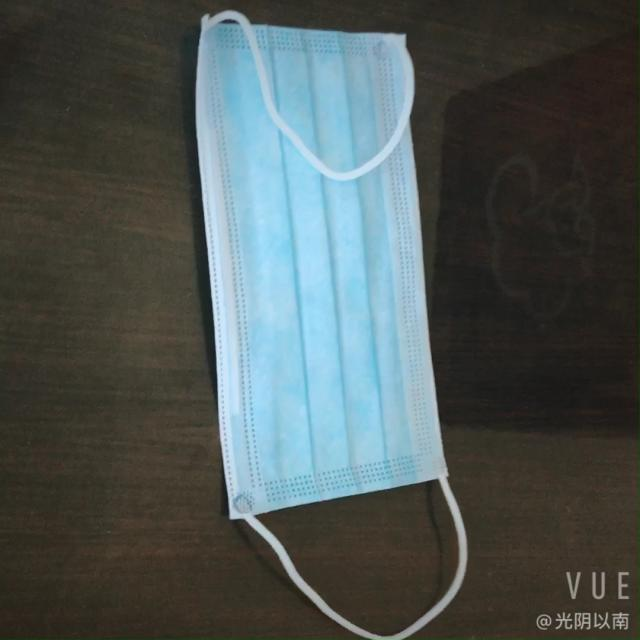non-organic waste: (183, 7, 436, 510)
